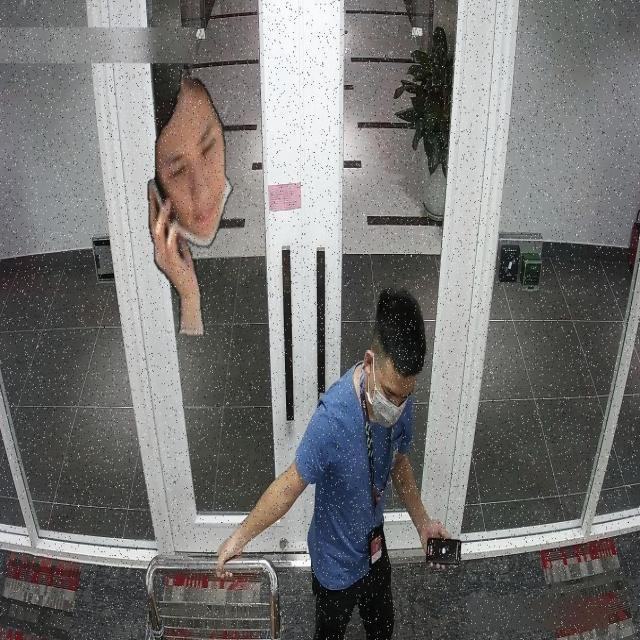hairnet: (150, 80, 232, 252)
